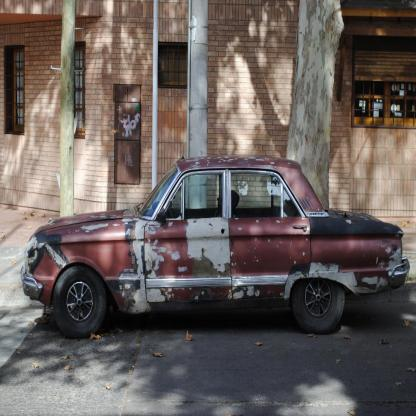Car: (18, 152, 412, 343)
